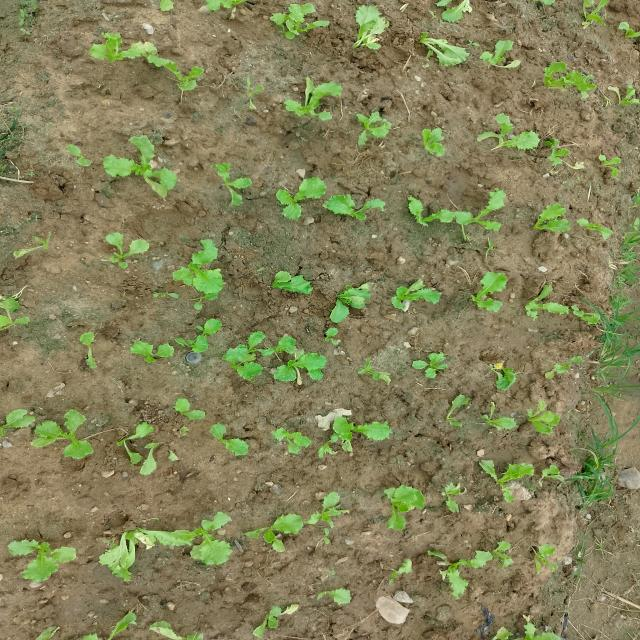Lettuce: (97, 134, 184, 212), (100, 518, 180, 578), (168, 505, 240, 570), (34, 403, 100, 471), (8, 532, 81, 589), (281, 74, 343, 138), (472, 452, 537, 506), (368, 479, 428, 537), (270, 333, 330, 390), (452, 187, 516, 240), (172, 243, 228, 301), (272, 172, 332, 225), (202, 158, 255, 218), (113, 420, 163, 482), (247, 508, 308, 557), (456, 266, 512, 318), (541, 56, 599, 104), (404, 343, 464, 389), (267, 0, 325, 47), (344, 3, 390, 61), (327, 188, 390, 230), (389, 274, 447, 316), (112, 332, 176, 370), (83, 28, 147, 66), (347, 105, 396, 152), (150, 50, 204, 89), (99, 230, 150, 270), (232, 324, 268, 378), (267, 418, 312, 458), (478, 35, 524, 74), (264, 266, 314, 300), (520, 400, 561, 440), (219, 422, 253, 467), (183, 310, 210, 355), (616, 18, 640, 51), (170, 400, 207, 421)
